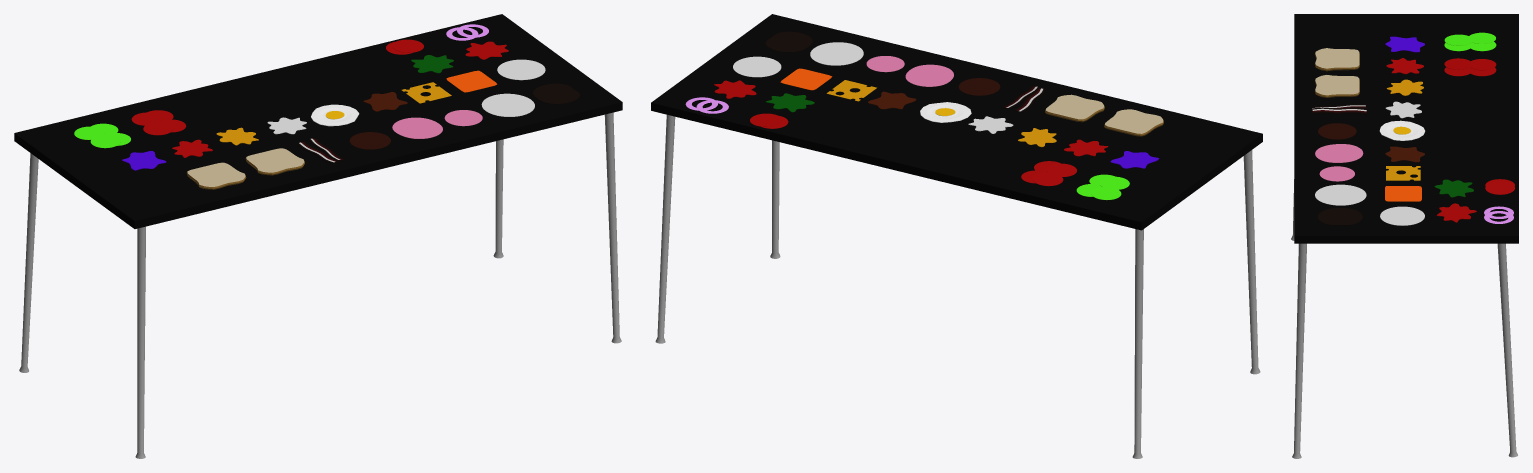
Rendered from sandwichMaking_color.FBX.
The picture shows the model from 3 angles, left to right: view 1: azimuth 30°, elevation 25°; view 2: azimuth 150°, elevation 25°; view 3: azimuth 270°, elevation 25°; orthographic projection. The views are drawn at different scales.
Parts seen in each view (by area): view 1: TableTop, TableLegs, Bread2, Bread1, WhiteCircle2, Pickles, Kiwis, Ham, Egg, WhiteCircle1, BrownCircle, Plane (+1 smaller); view 2: TableTop, TableLegs, Bread2, Bread1, WhiteCircle2, Pickles, Kiwis, Ham, Egg, WhiteCircle1, BrownCircle, Plane (+1 smaller); view 3: TableTop, TableLegs, Bread2, Bread1, WhiteCircle2, Pickles, Kiwis, Ham, Egg, WhiteCircle1, BrownCircle, Plane (+13 smaller).
Boxes of the visible parts, left/top/right/bottom form: TableTop: left=14, top=14, right=622, bottom=228; TableLegs: left=19, top=112, right=621, bottom=458; Bread2: left=186, top=162, right=246, bottom=189; Bread1: left=245, top=148, right=304, bottom=175; WhiteCircle2: left=481, top=93, right=534, bottom=116; Pickles: left=131, top=110, right=186, bottom=135; Kiwis: left=74, top=123, right=130, bottom=148; Ham: left=392, top=117, right=442, bottom=138; Egg: left=311, top=104, right=359, bottom=126; WhiteCircle1: left=497, top=59, right=545, bottom=80; BrownCircle: left=533, top=83, right=579, bottom=104; Plane: left=446, top=70, right=497, bottom=92; TableTop: left=651, top=14, right=1262, bottom=230; TableLegs: left=655, top=114, right=1260, bottom=458; Bread2: left=1104, top=109, right=1163, bottom=136; Bread1: left=1045, top=94, right=1104, bottom=122; WhiteCircle2: left=810, top=42, right=863, bottom=65; Pickles: left=1021, top=161, right=1076, bottom=186; Kiwis: left=1076, top=174, right=1129, bottom=200; Ham: left=905, top=64, right=953, bottom=86; Egg: left=920, top=102, right=971, bottom=122; WhiteCircle1: left=733, top=56, right=781, bottom=77; BrownCircle: left=765, top=31, right=812, bottom=52; Plane: left=780, top=68, right=832, bottom=90; TableTop: left=1294, top=14, right=1518, bottom=243; TableLegs: left=1291, top=179, right=1517, bottom=458; Bread2: left=1314, top=48, right=1359, bottom=71; Bread1: left=1314, top=75, right=1359, bottom=97; WhiteCircle2: left=1315, top=184, right=1366, bottom=205; Pickles: left=1444, top=58, right=1496, bottom=76; Kiwis: left=1444, top=32, right=1496, bottom=51; Ham: left=1315, top=144, right=1363, bottom=162; Egg: left=1379, top=120, right=1425, bottom=140; WhiteCircle1: left=1380, top=206, right=1424, bottom=225; BrownCircle: left=1318, top=208, right=1362, bottom=225; Plane: left=1385, top=186, right=1421, bottom=201.
Size of the model in its own units: 14.85 by 7.06 by 6.44.
